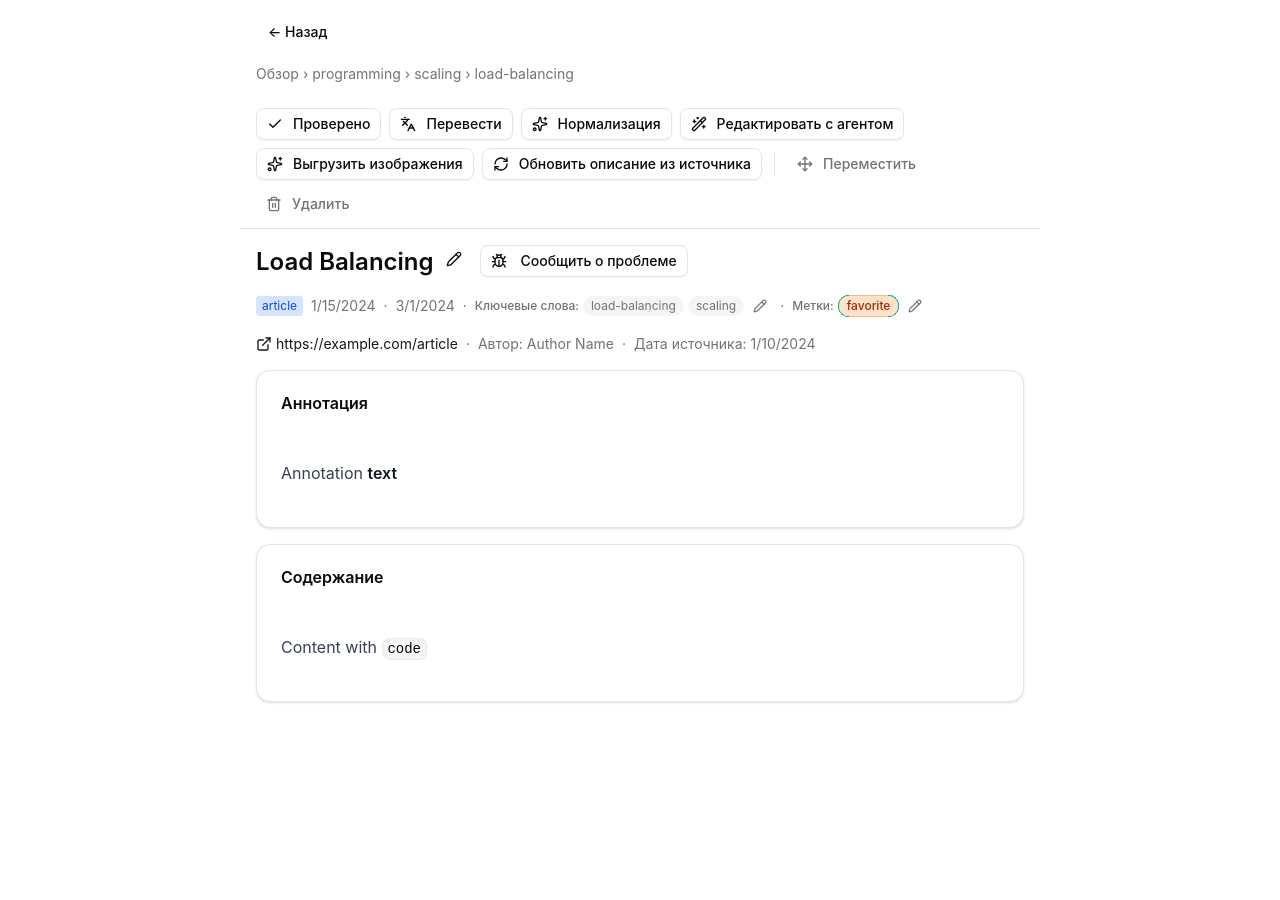
Scenario: NodePage › edits title via dialog
The width and height of the screenshot is (1280, 900).
Check: the heading "Load Balancing" is shown, box [256,245,434,278]
Click the button named "Редактировать заголовок": click(454, 259) [440,245,468,273]
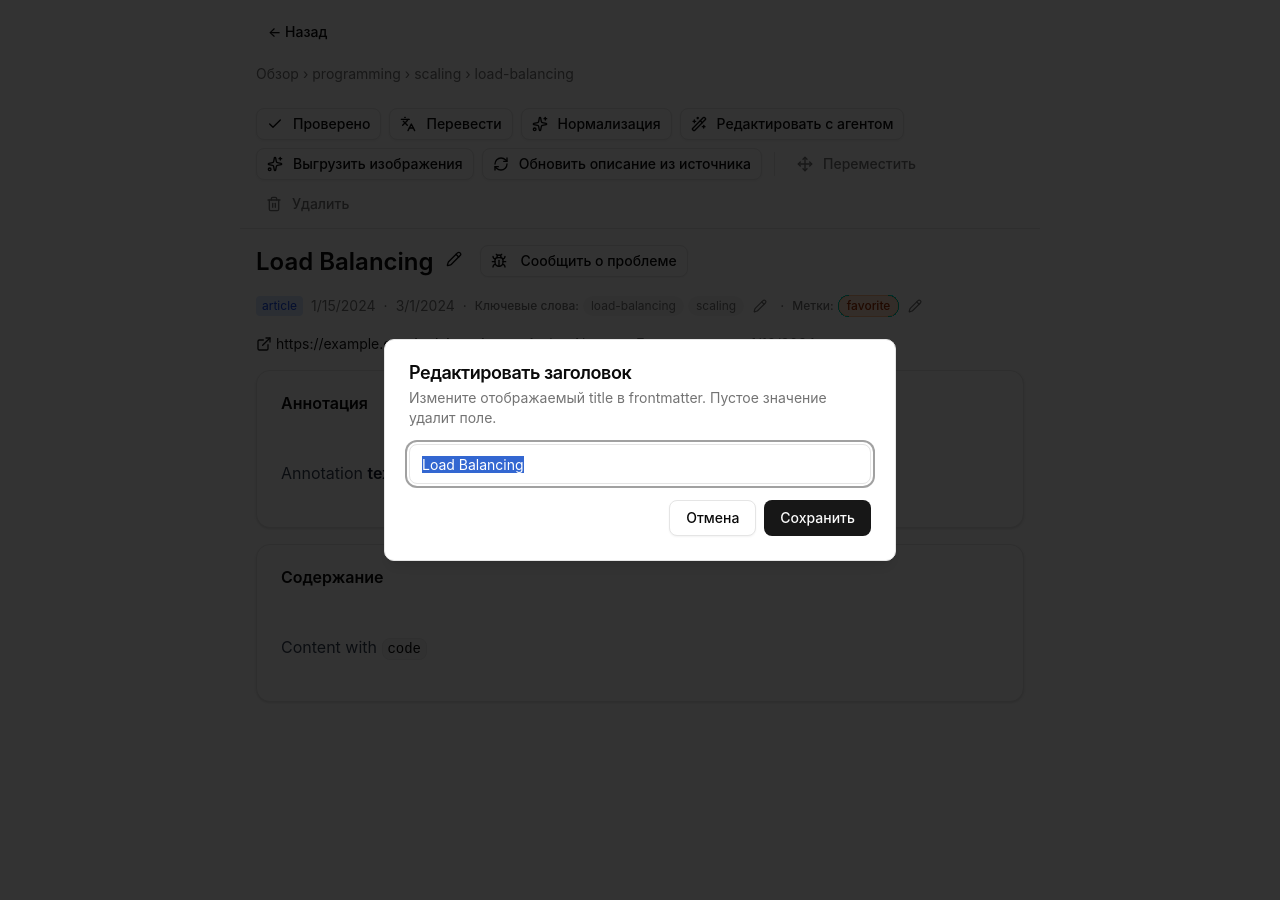
Replace the text in the field with placeholder "Введите заголовок" with "New Load Balancing Title": (640, 464) [409,444,871,484]
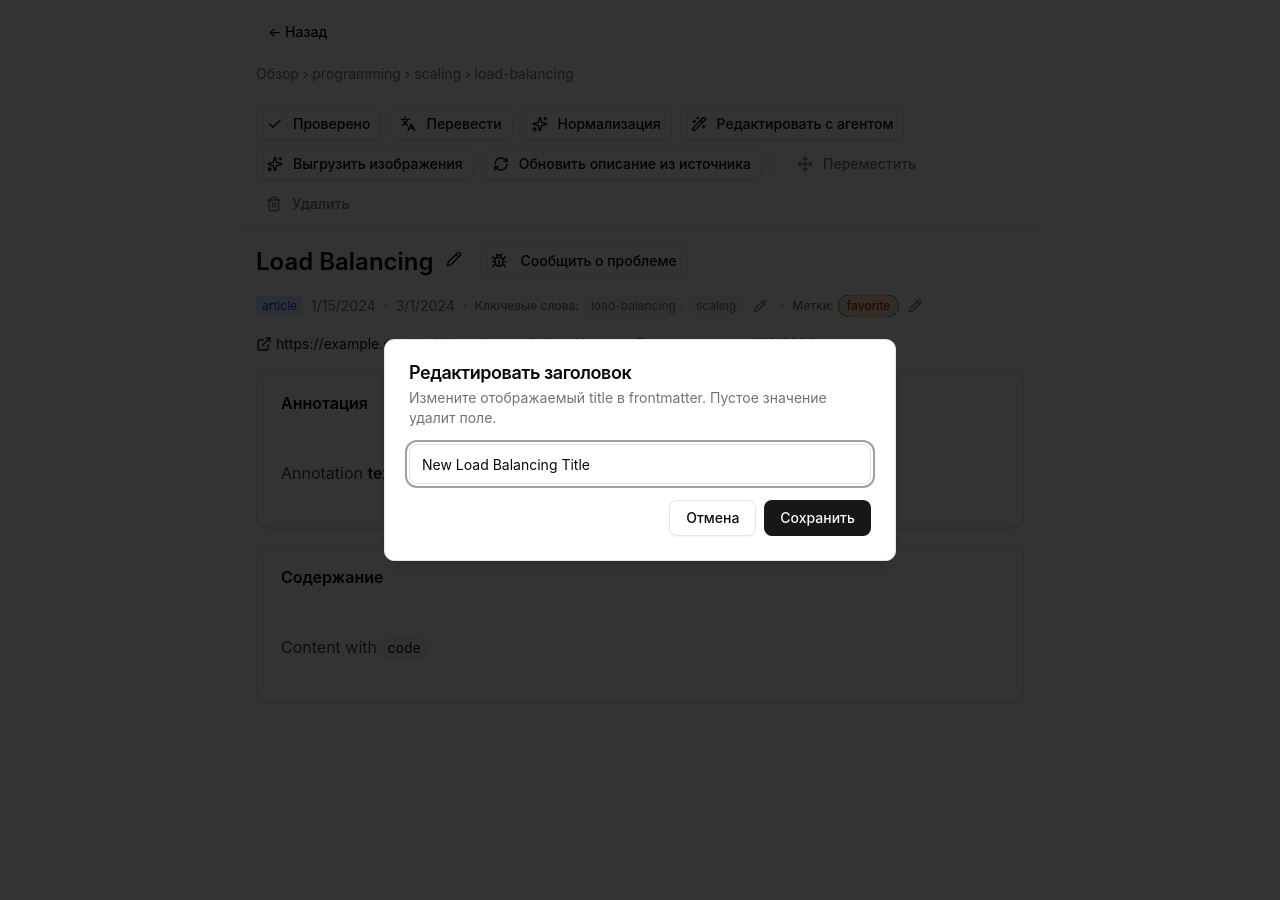
Click the button "Сохранить": click(818, 518) [764,500,871,536]
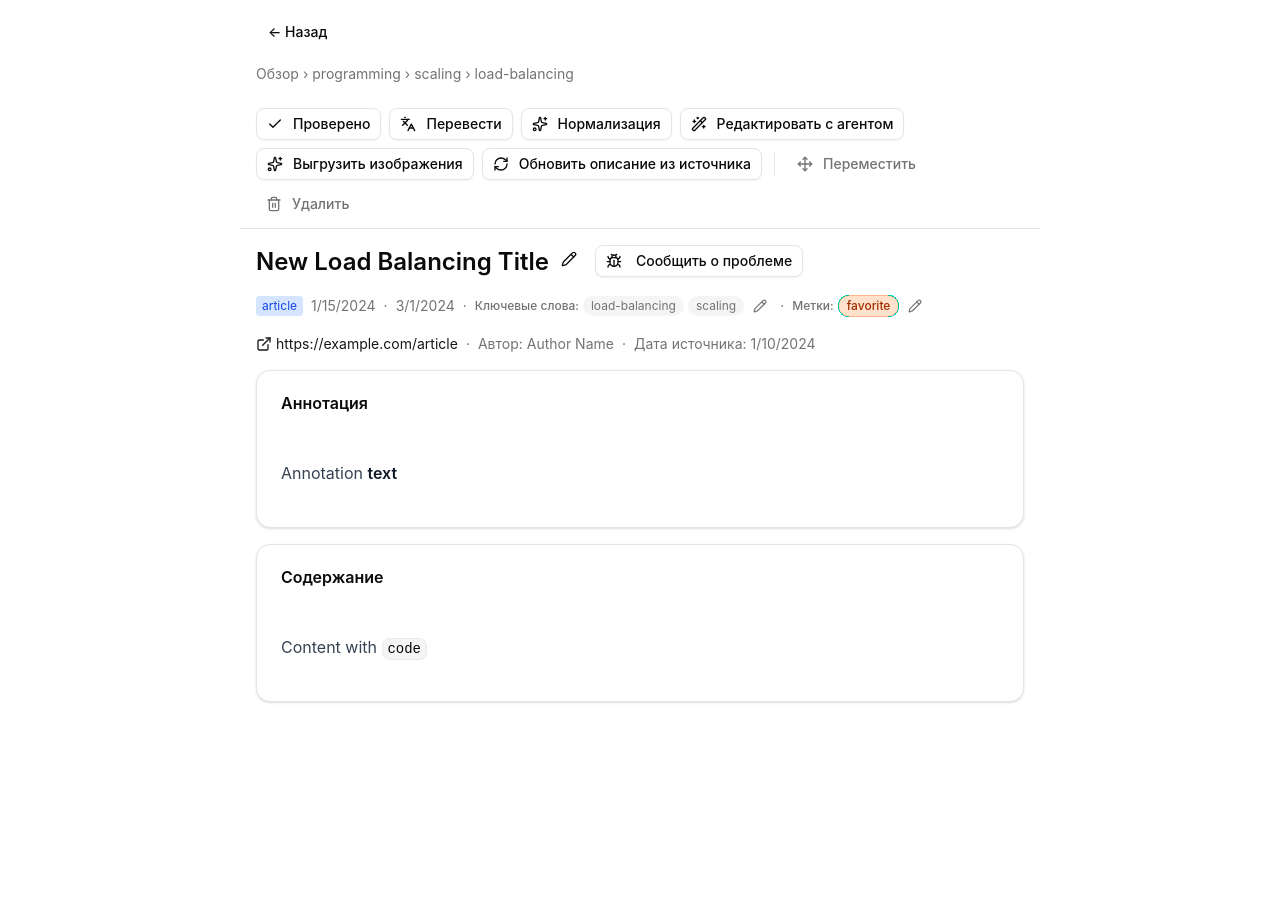
Check: the heading "New Load Balancing Title" is shown, box [256,245,549,278]
